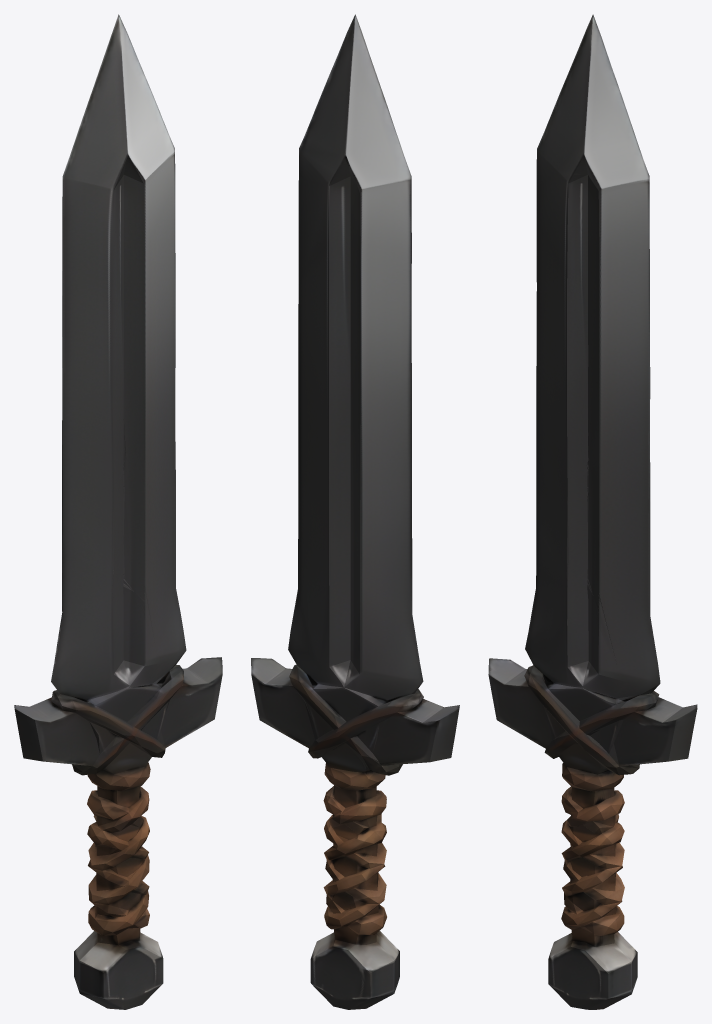
Rendered from base_basic_pbr.fbx.
3 renders of one model, left to right at view 1: azimuth 30°, elevation 25°; view 2: azimuth 150°, elevation 25°; view 3: azimuth 330°, elevation 25°, orthographic.
Parts seen in each view (by area): view 1: model; view 2: model; view 3: model.
Part boxes in pixels (x1=…): model: x1=14, y1=14, x2=222, y2=1009; model: x1=251, y1=14, x2=459, y2=1009; model: x1=488, y1=14, x2=697, y2=1009.
Size of the model in its own units: 38.83 by 177 by 10.87.
Materials: 1 (1 with a texture image).
